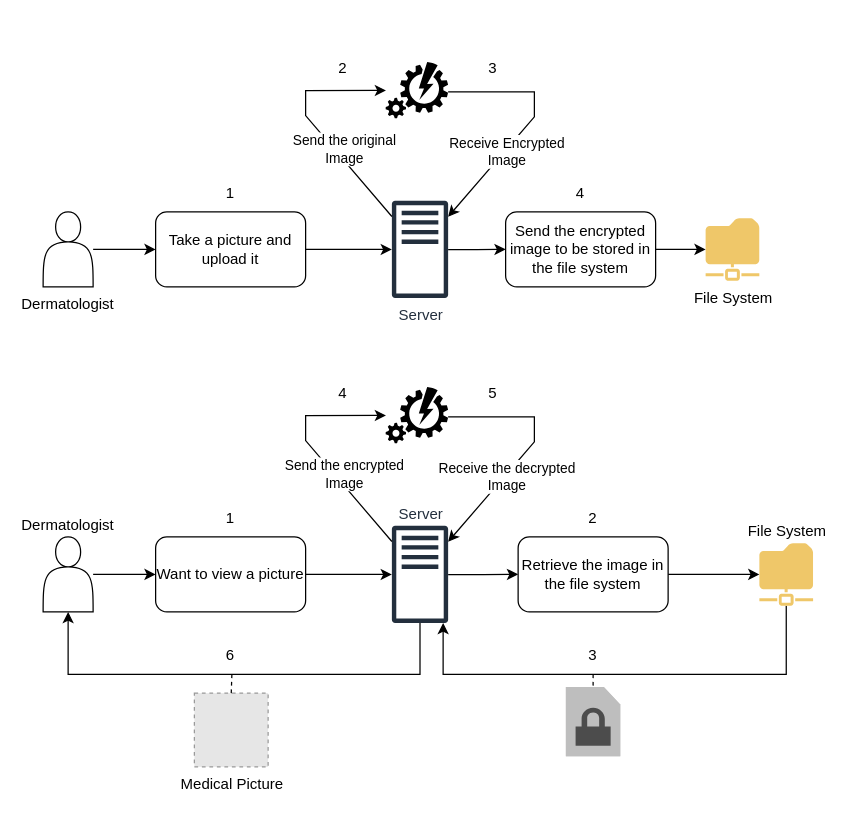
The diagram is 846 pixels wide and 814 high, and some of its shapes have lost their labels. Grey dashed boxes stand in for pictures. The shapes that lost their labels are listed below. From the top down, each one's centre as x and y in pixels, then its label:
At [416,89]: "Server encrypt the Image using AES".
At [416,414]: "Server decrypt the Image using AES".
At [592,721]: "Encrypted Image".
